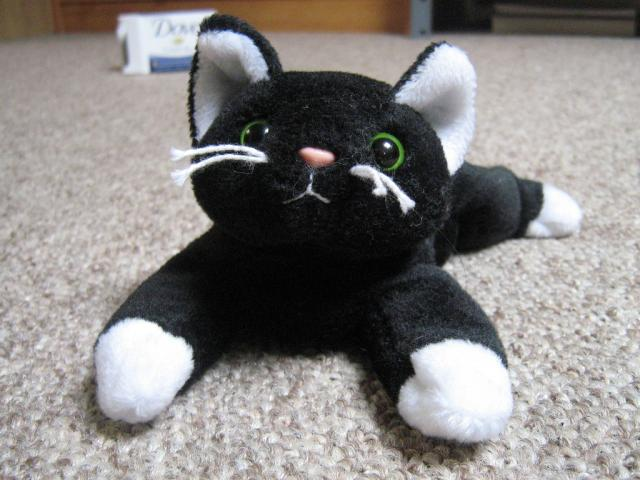Cat: (96, 10, 581, 442)
